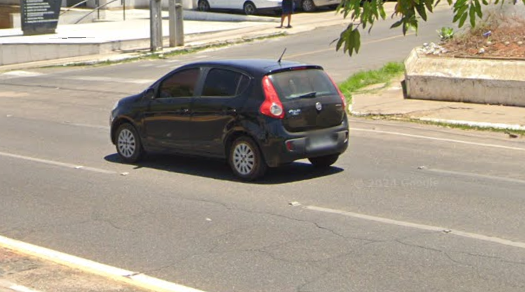car: (105, 44, 355, 184)
